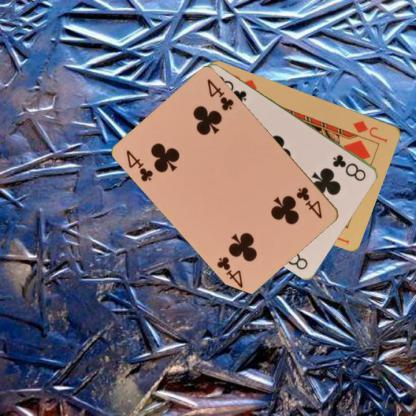4c: (294, 184, 324, 220), (124, 147, 154, 183)
8c: (330, 152, 367, 182)
Jd: (351, 117, 389, 144)
